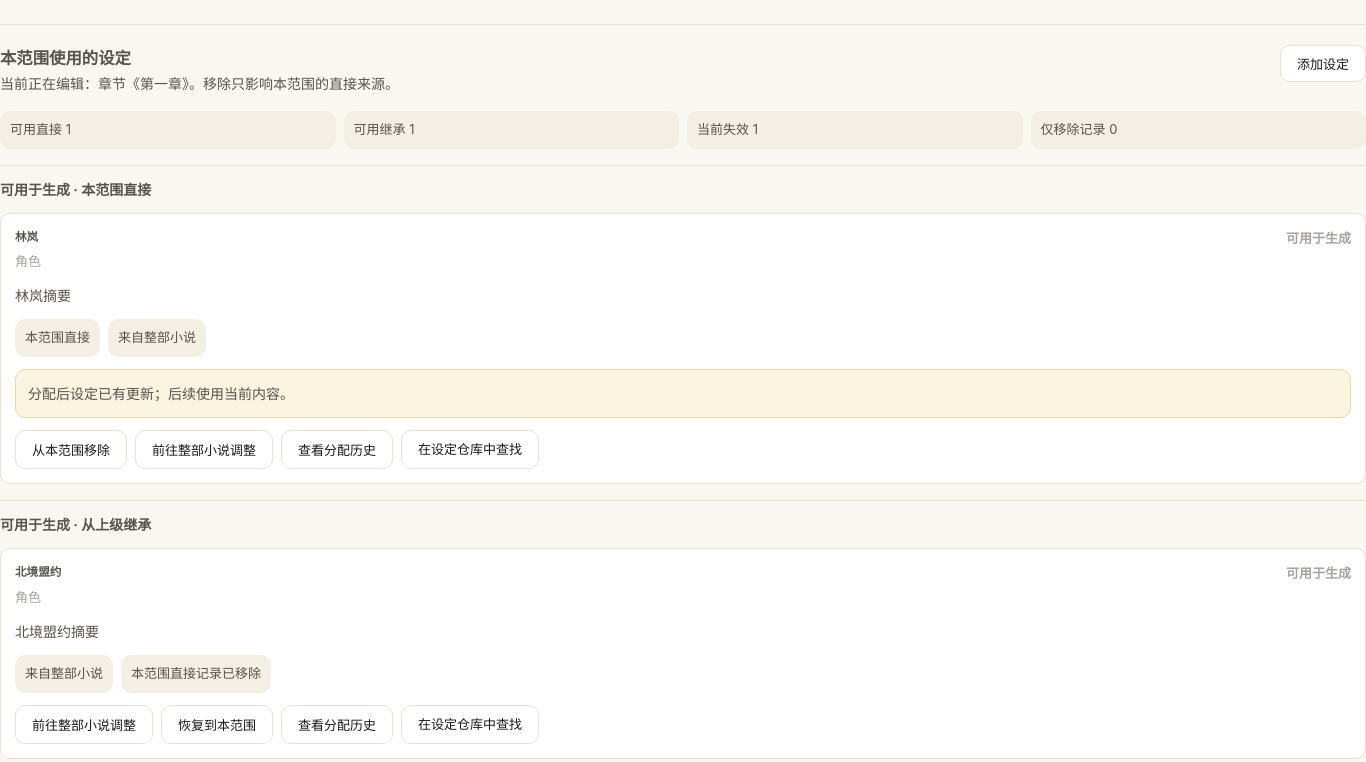
Test case: PlanningLoreAssignments › loads history only when requested and never displays the internal actor id
The image size is (1366, 762).
Click the button "查看分配历史" below "分配后设定已有更新；后续使用当前内容。": (337, 450) [281,430,393,469]
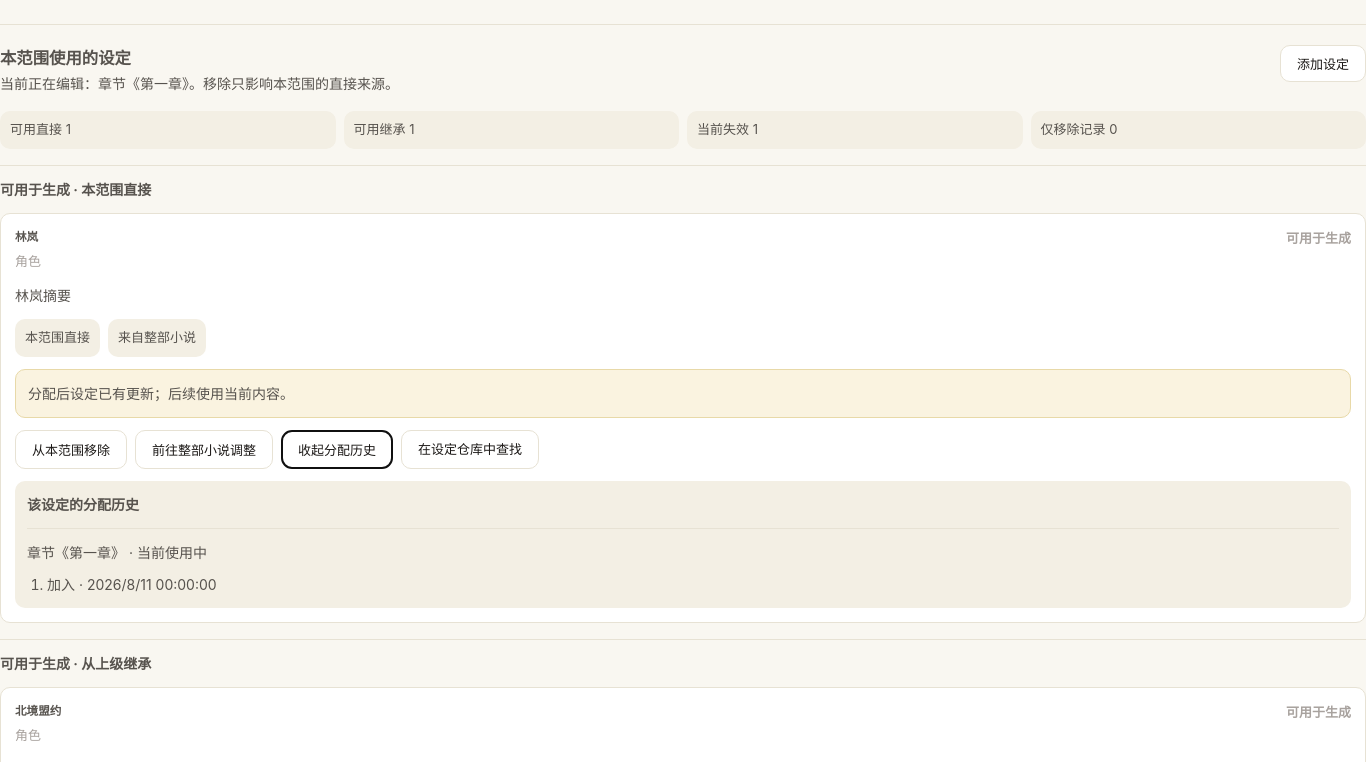
Now the text "该设定的分配历史" is shown, box [27,496,139,513]
Now the button "收起分配历史" is expanded, box [281,430,393,469]
